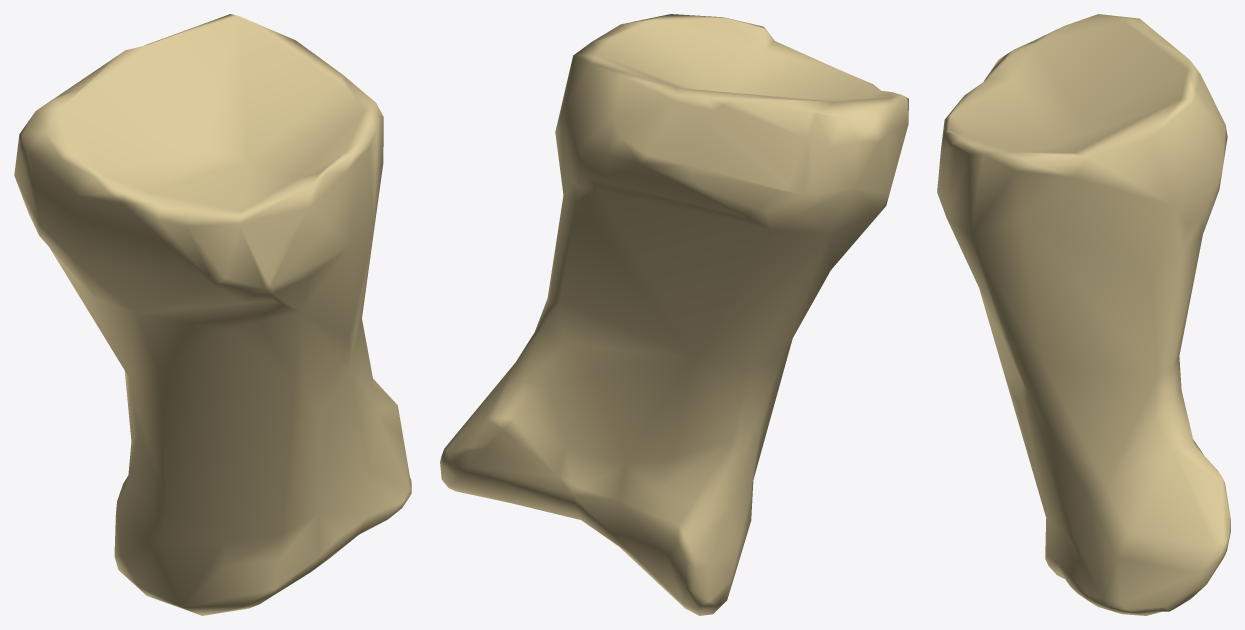
3 views of the same model, side by side, from view 1: azimuth 30°, elevation 25°; view 2: azimuth 150°, elevation 25°; view 3: azimuth 270°, elevation 25° (orthographic). The views are drawn at different scales.
Visible parts, largest first — view 1: 左侧第一趾近节趾骨; view 2: 左侧第一趾近节趾骨; view 3: 左侧第一趾近节趾骨.
Part boxes in pixels (x1,y1,x2,y2): 左侧第一趾近节趾骨: (14,14,411,615); 左侧第一趾近节趾骨: (440,14,908,615); 左侧第一趾近节趾骨: (937,14,1230,615).
Size of the model in its own units: 0.0385 by 0.0509 by 0.0261.
